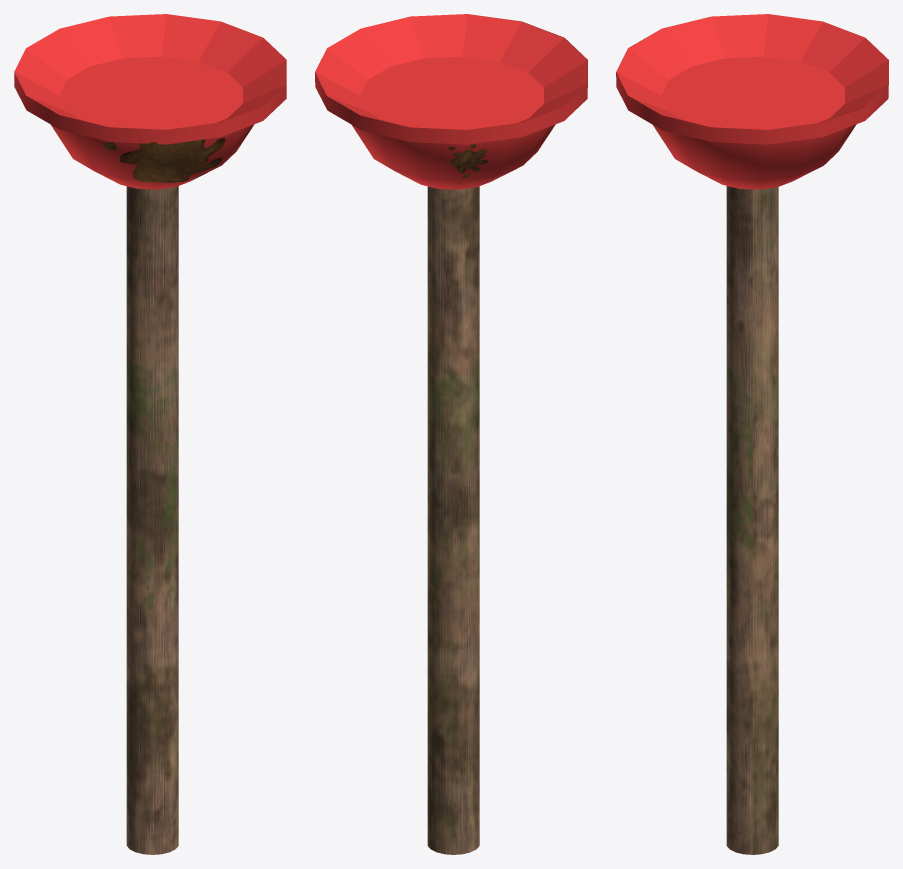
The model's file is Desatascador.FBX.
3 renders of one model, left to right at view 1: azimuth 30°, elevation 25°; view 2: azimuth 150°, elevation 25°; view 3: azimuth 270°, elevation 25°, orthographic.
Parts seen in each view (by area): view 1: Desatascador, Palo; view 2: Desatascador, Palo; view 3: Desatascador, Palo.
Part boxes in pixels (left/top/right/bottom): Desatascador: left=14, top=14, right=286, bottom=189; Palo: left=126, top=186, right=178, bottom=854; Desatascador: left=315, top=14, right=587, bottom=189; Palo: left=427, top=186, right=479, bottom=854; Desatascador: left=616, top=14, right=888, bottom=189; Palo: left=726, top=186, right=778, bottom=854.
Bounding box in the file's own units: 83.88 × 83.42 × 260.
